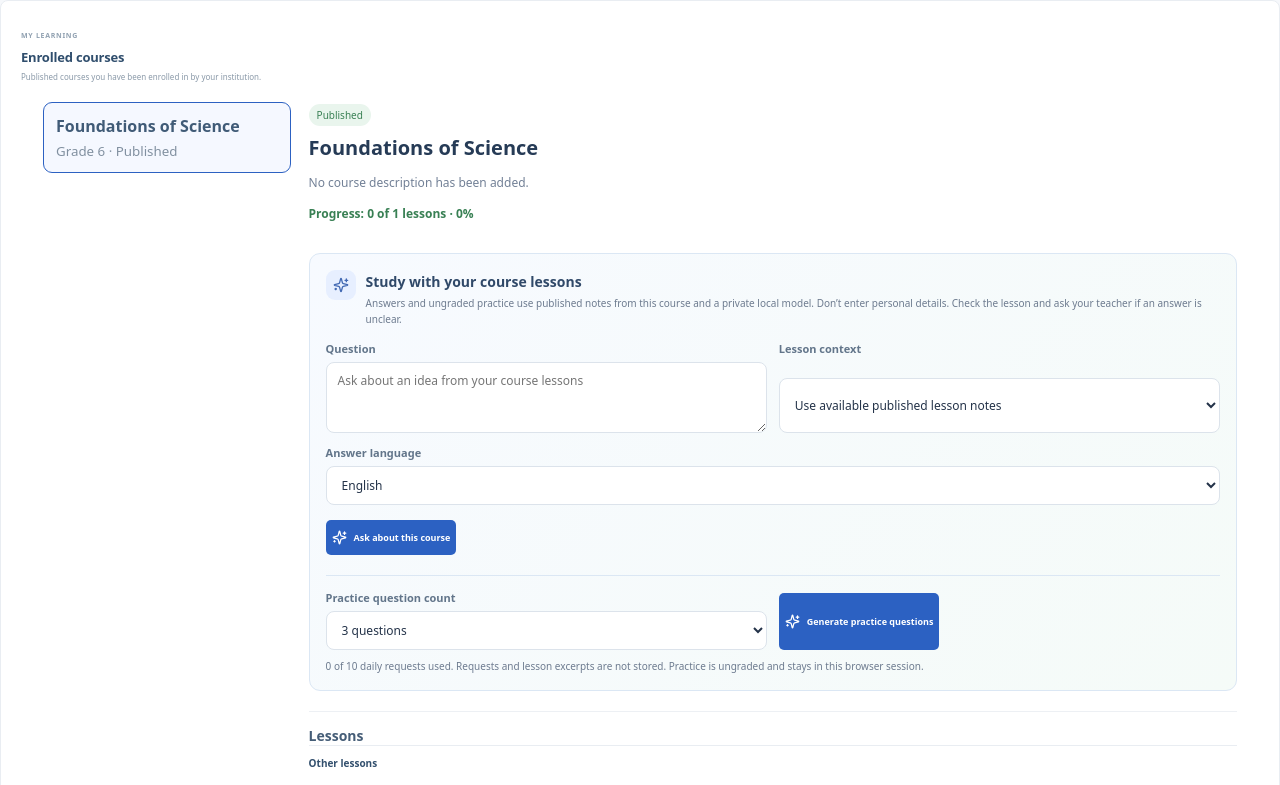
Scenario: student course study help › shows the optional helper and sends a selected published lesson with the question
Expected: the heading "Study with your course lessons" is shown, x1=366 y1=272 x2=582 y2=291
Step 1. Select "The Water Cycle" in the dropdown labelled "Lesson context" → (999, 406), box x1=779 y1=378 x2=1220 y2=433
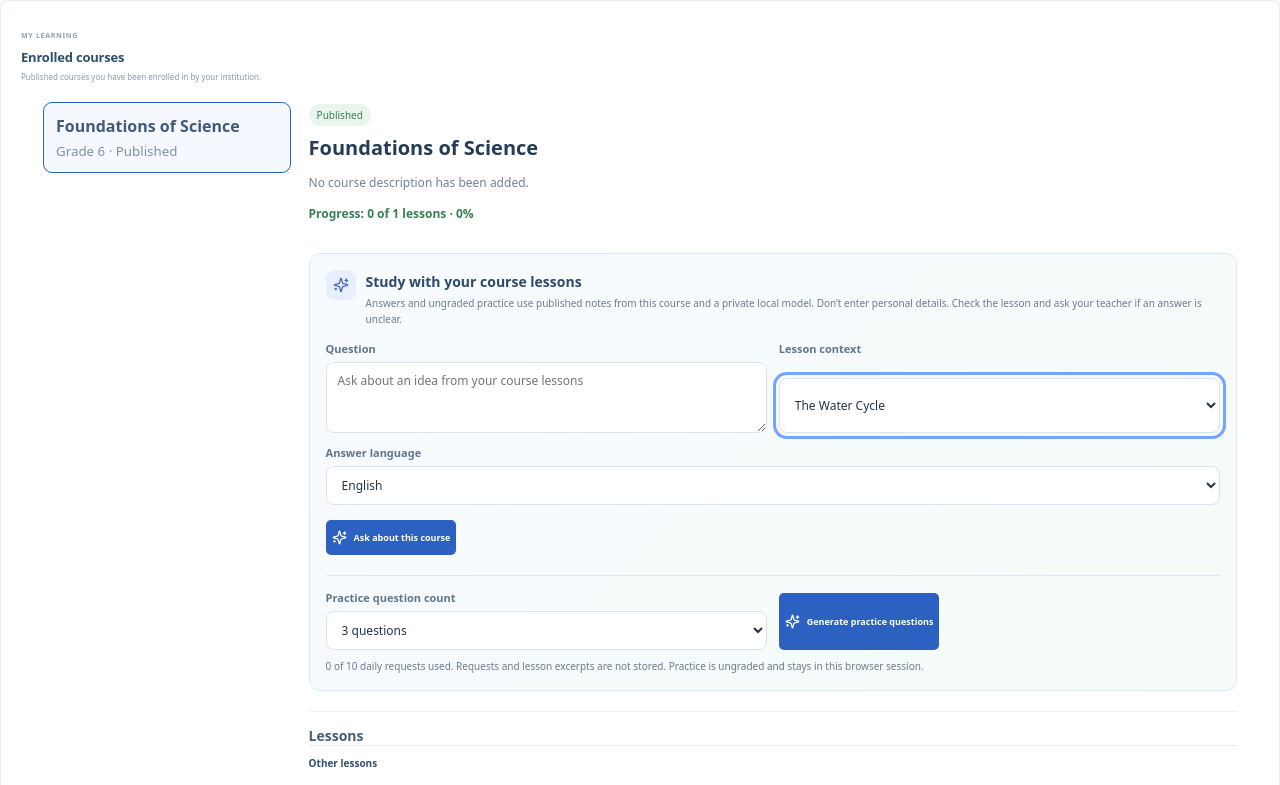
Step 2. Type "How does sunlight start the water cycle?" into the text box labelled "Question" → (546, 398), box x1=326 y1=362 x2=767 y2=433
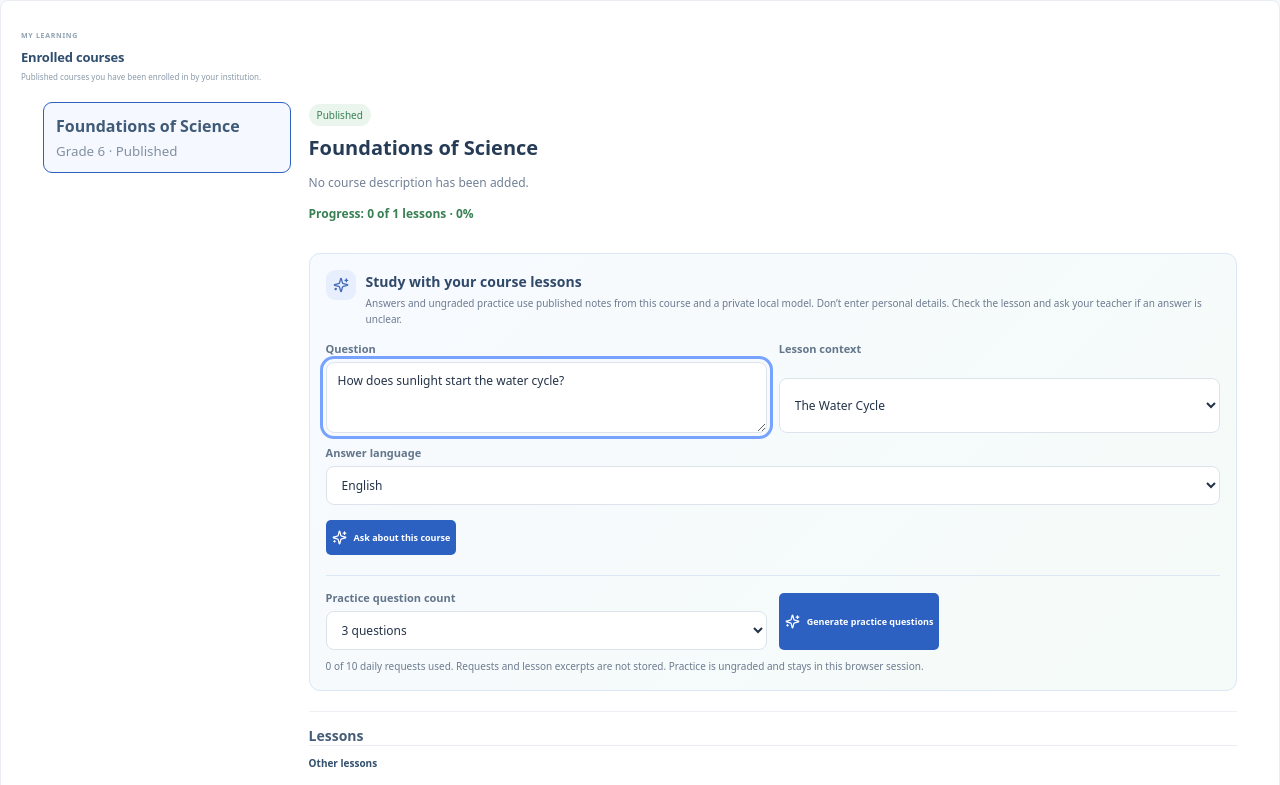
Step 3. Click the button "Ask about this course" → (391, 538), box x1=326 y1=520 x2=456 y2=555
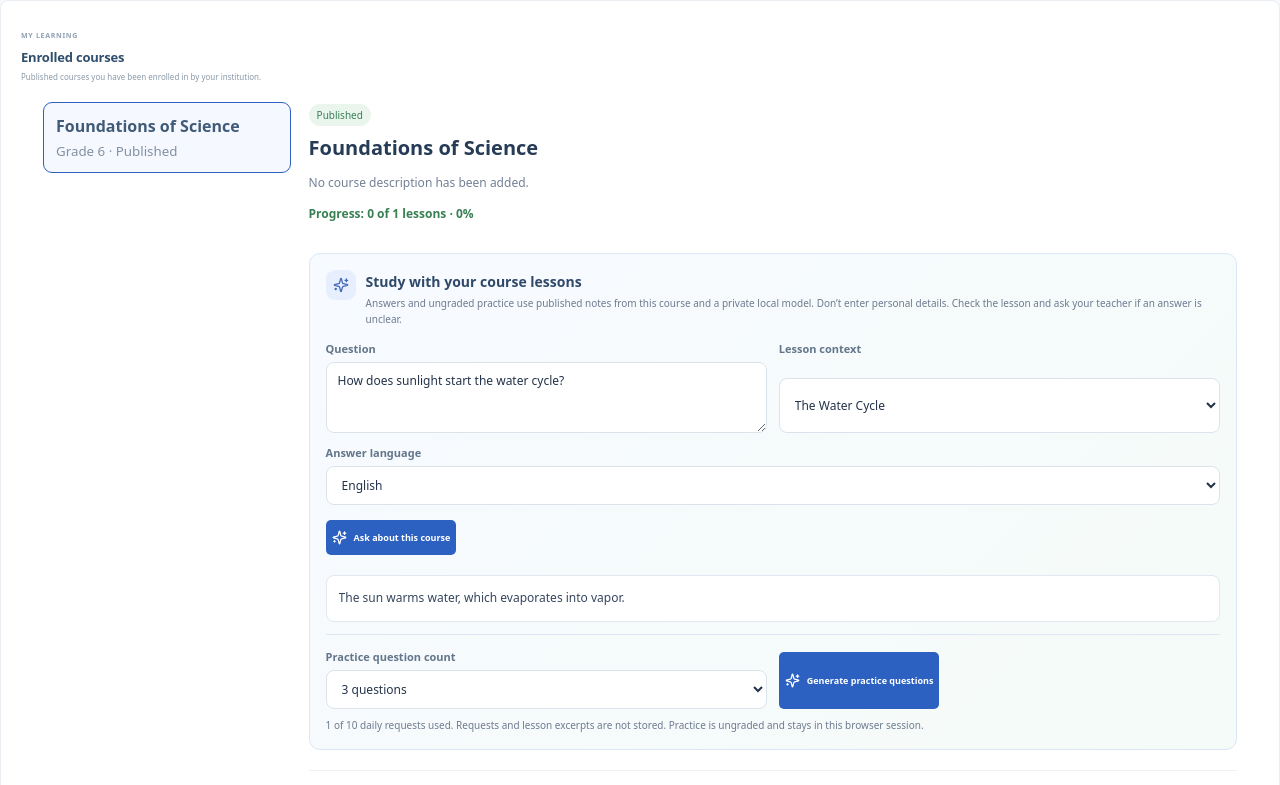
Expected: the text "The sun warms water, which evaporates into vapor." is shown, x1=339 y1=589 x2=625 y2=606
Expected: the text "1 of 10 daily requests used. Requests and lesson excerpts are not stored. Practice is ungraded and stays in this browser" is shown, x1=326 y1=718 x2=924 y2=732
